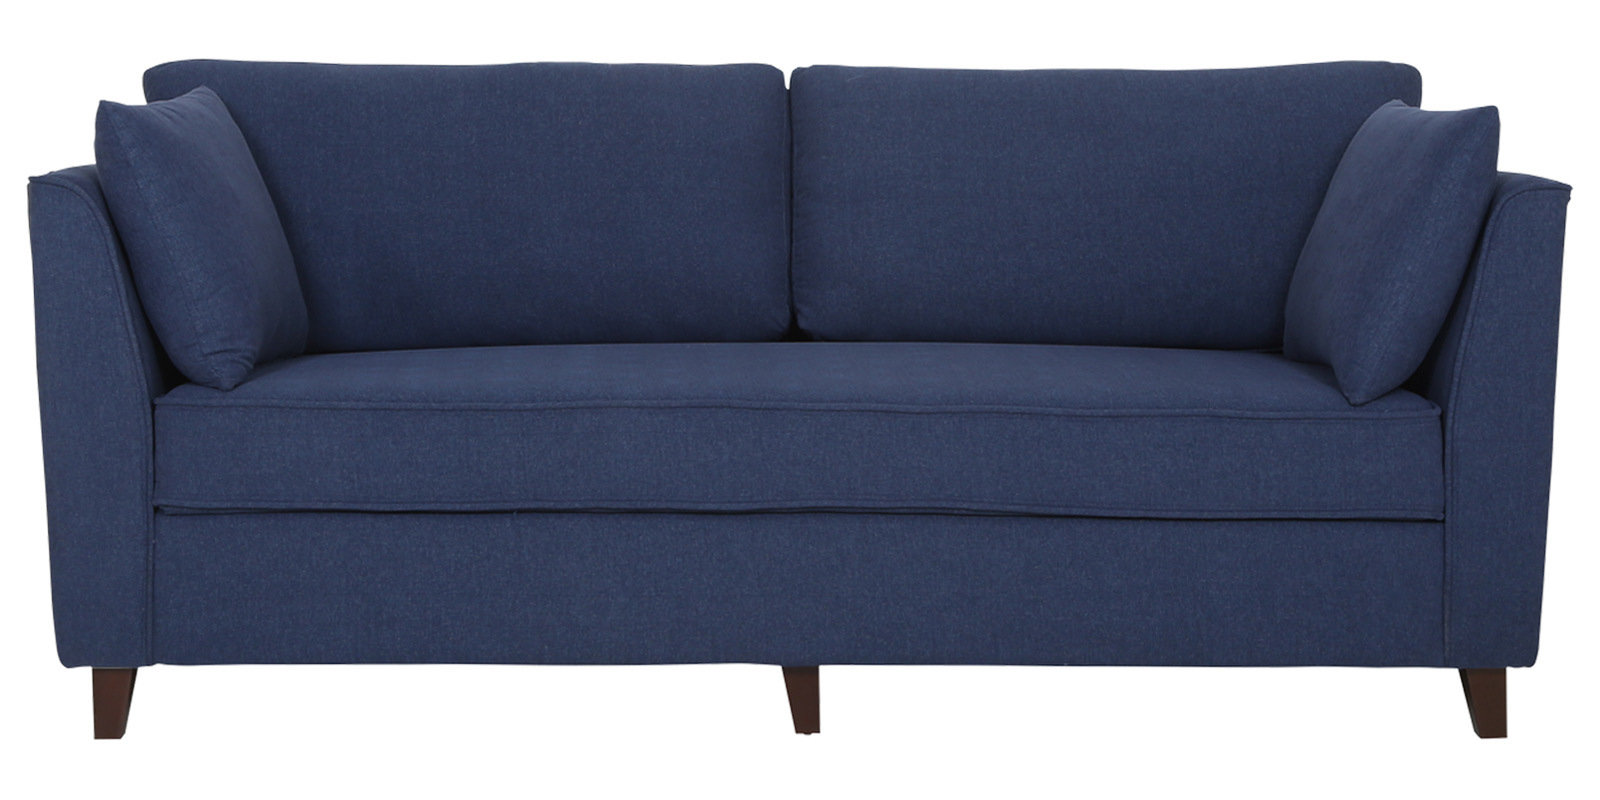Miranda Three Seater Sofa in Navy Blue Colour by CasaCraft: (26, 54, 1576, 741)
